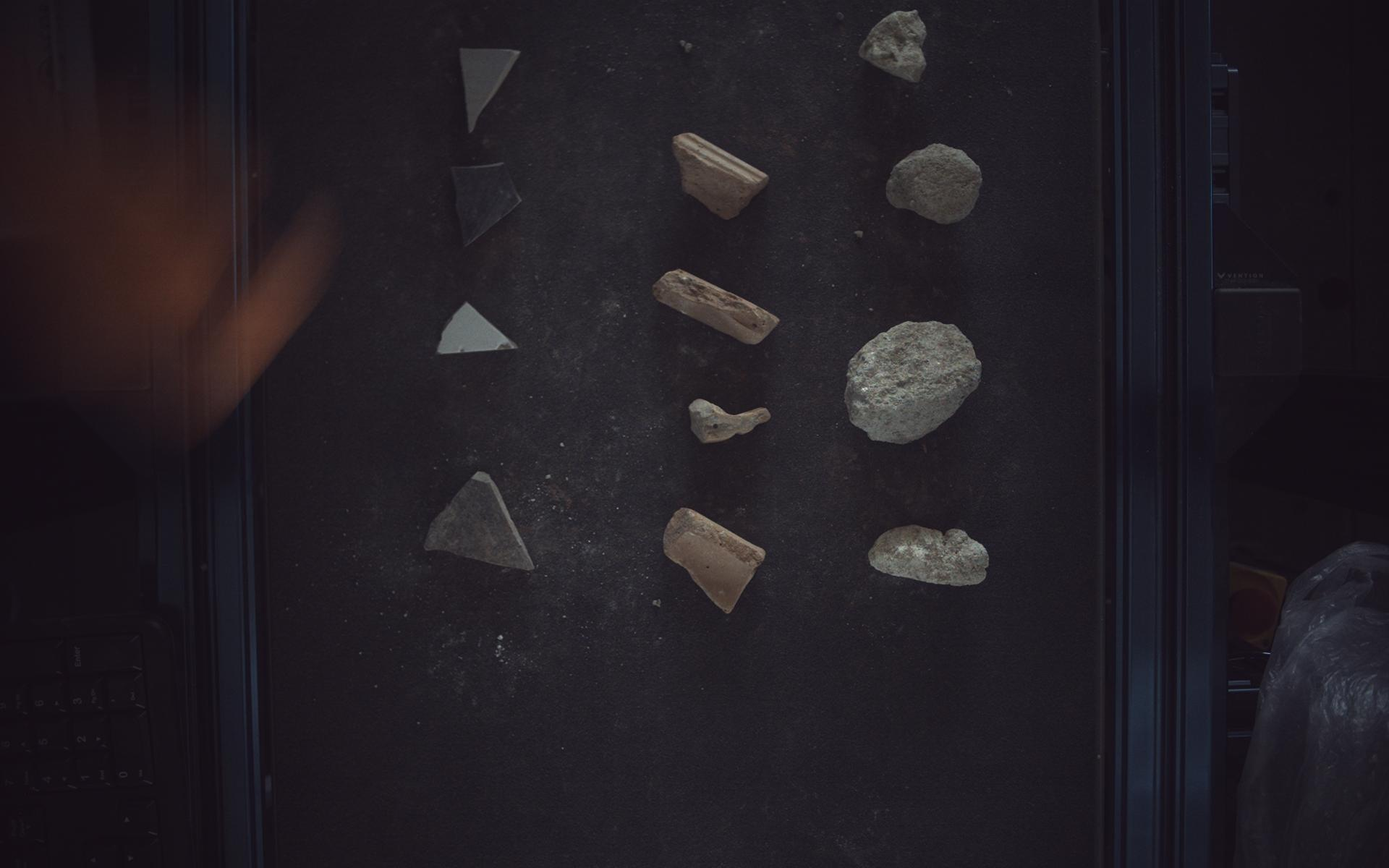brick: (664, 509, 766, 614), (654, 269, 781, 344), (674, 132, 770, 218), (689, 399, 771, 443)
concrete: (846, 321, 983, 444), (888, 142, 984, 224), (870, 526, 991, 587), (861, 9, 928, 81)
tile: (424, 472, 535, 571), (451, 161, 521, 246), (460, 47, 519, 132), (437, 302, 517, 354)
